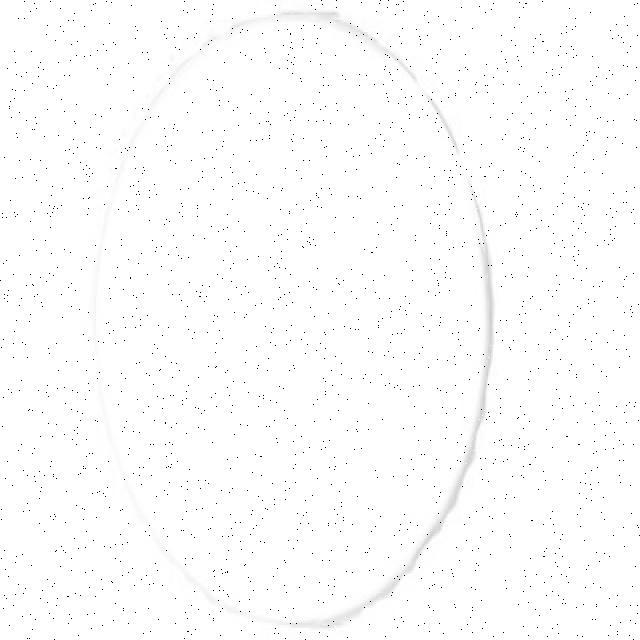Circle: (94, 9, 494, 628)
